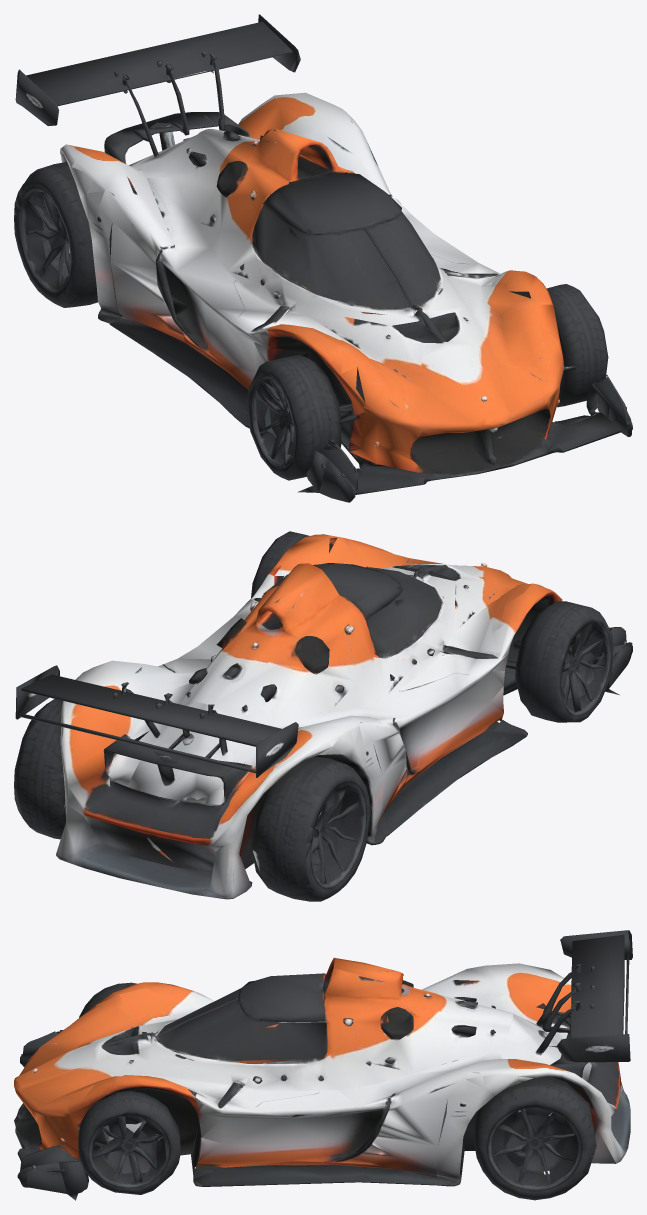
The model's file is endurance-coupe-low.glb.
3 views of the same model, one above another, from view 1: azimuth 30°, elevation 25°; view 2: azimuth 150°, elevation 25°; view 3: azimuth 270°, elevation 25° (orthographic). The views are drawn at different scales.
Visible parts, largest first — view 1: Car_Body, Wheel_FL, Wheel_RL, Wheel_FR; view 2: Car_Body, Wheel_FL, Wheel_RL, Wheel_FR; view 3: Car_Body, Wheel_RR, Wheel_FR, Wheel_FL.
Part boxes in pixels (x1,y1,x2,y2): Car_Body: (14,14,632,502); Wheel_FL: (245,324,365,492); Wheel_RL: (14,162,122,323); Wheel_FR: (482,270,622,426); Car_Body: (14,537,632,899); Wheel_FL: (487,583,619,735); Wheel_RL: (268,727,387,901); Wheel_FR: (251,531,338,598); Car_Body: (14,930,632,1193); Wheel_RR: (436,1074,589,1200); Wheel_FR: (36,1075,223,1200); Wheel_FL: (25,982,195,1059).
Bounding box in the file's own units: 1.88 × 1.21 × 3.65.
Materials: 1 (1 with a texture image).
